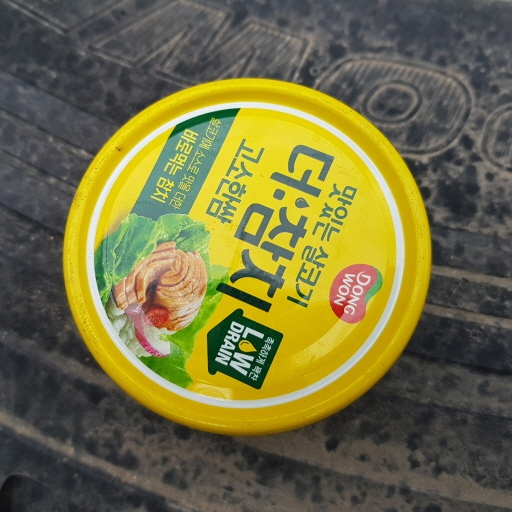Metal_1: (62, 77, 434, 433)
